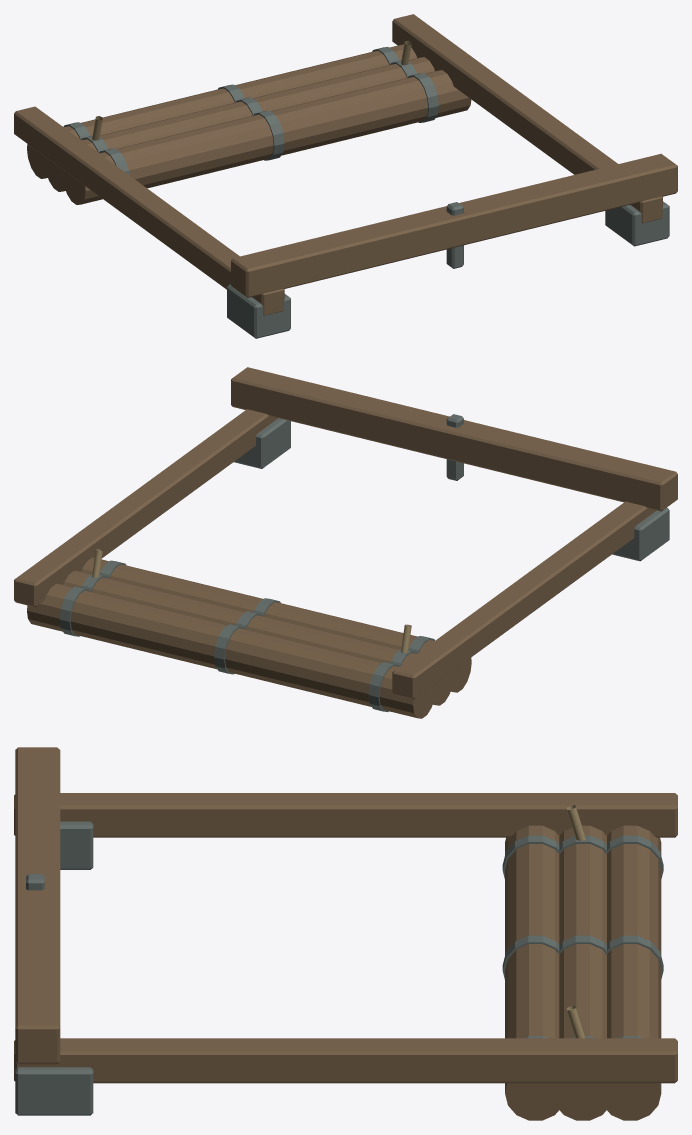
File: briarhold-gate-drop-rack-256.glb
3 views of the same model, one above another, from view 1: azimuth 30°, elevation 25°; view 2: azimuth 150°, elevation 25°; view 3: azimuth 270°, elevation 25° (orthographic). The views are drawn at different scales.
Parts seen in each view (by area): view 1: drop_rack_frame_geometry, drop_weight_geometry, latch_handle; view 2: drop_rack_frame_geometry, drop_weight_geometry, latch_handle; view 3: drop_rack_frame_geometry, drop_weight_geometry.
Boxes of the visible parts, x1,y1,x2,y2 form: drop_rack_frame_geometry: (14, 14, 677, 338); drop_weight_geometry: (27, 44, 471, 204); latch_handle: (446, 202, 463, 268); drop_rack_frame_geometry: (14, 367, 677, 699); drop_weight_geometry: (27, 557, 471, 718); latch_handle: (446, 414, 463, 480); drop_rack_frame_geometry: (14, 747, 677, 1115); drop_weight_geometry: (502, 825, 663, 1120).
Bounding box in the file's own units: 5.6 × 1.12 × 5.6.
